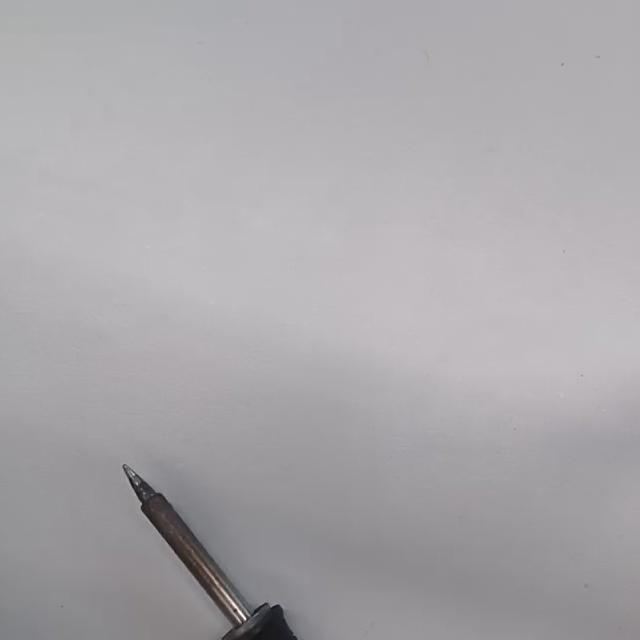soldering_iron: (119, 461, 302, 640)
